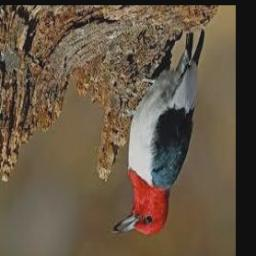Woodpecker: (113, 28, 205, 236)
